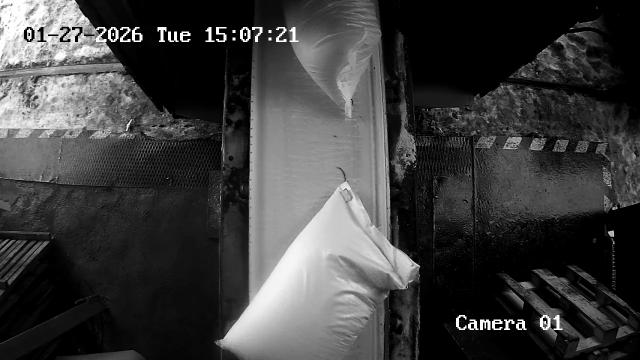bag: (217, 181, 420, 360), (283, 0, 382, 118)
